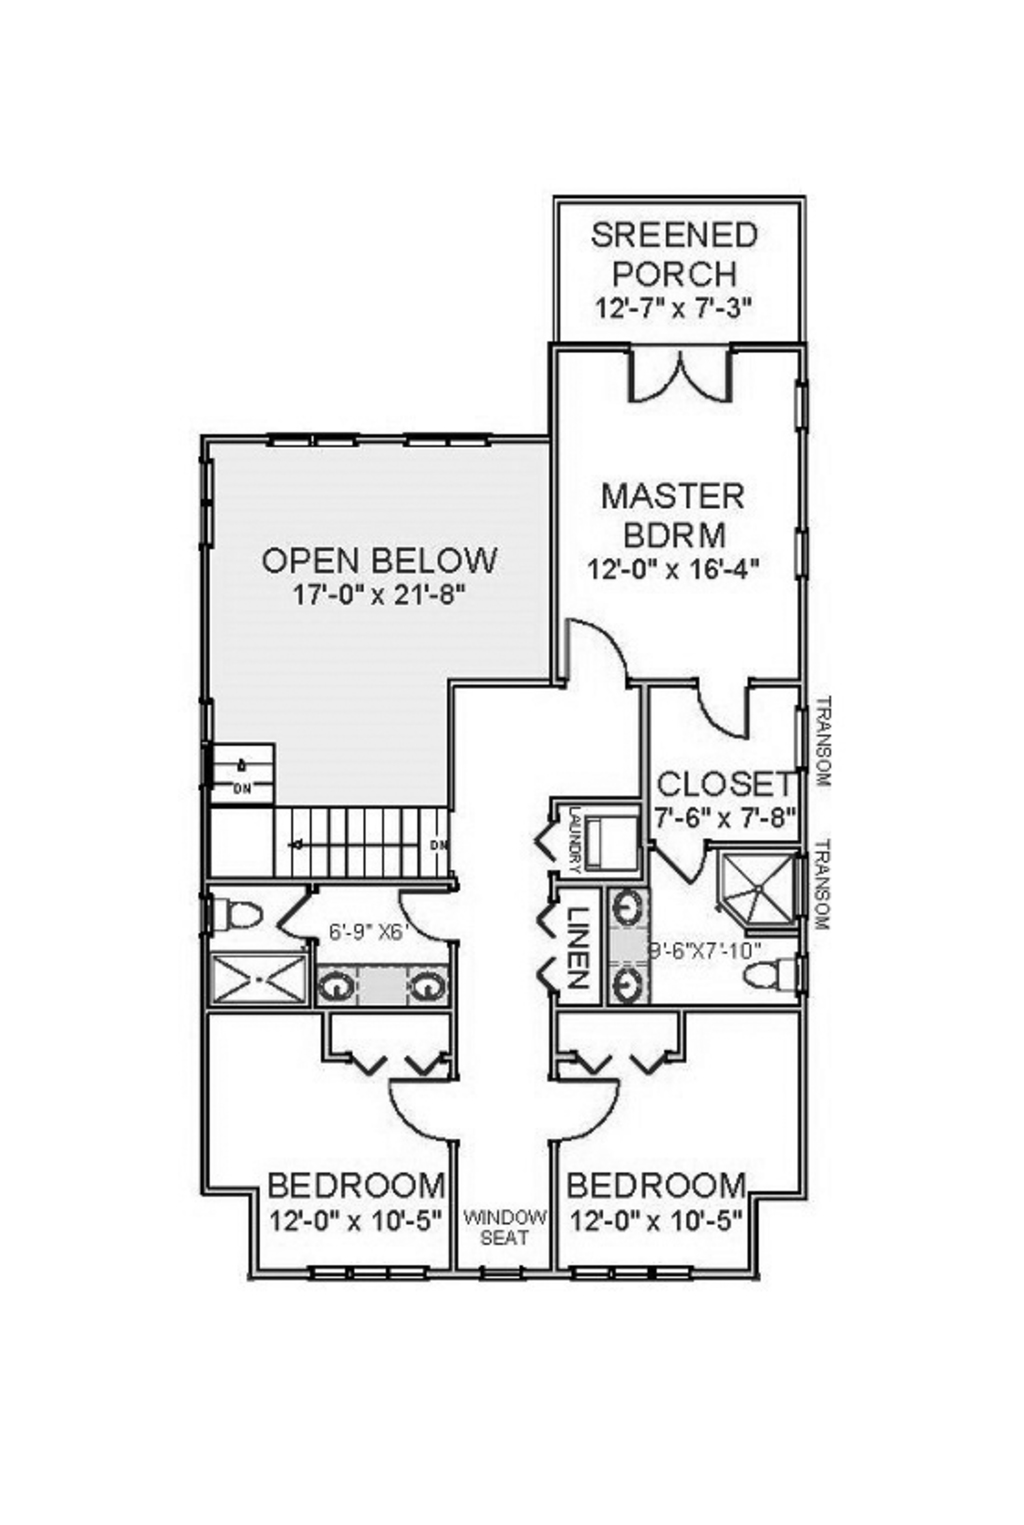door: (622, 345, 738, 406), (382, 1073, 458, 1157), (563, 613, 630, 695), (550, 1076, 627, 1141), (693, 674, 758, 745), (389, 878, 451, 944), (650, 841, 709, 884), (271, 891, 315, 947)
large_sink: (205, 886, 261, 947), (735, 949, 801, 994)
small_sink: (319, 958, 446, 1016), (605, 886, 651, 1008)
stairs: (205, 735, 446, 886)
windows: (261, 428, 498, 455), (296, 1257, 442, 1289)
